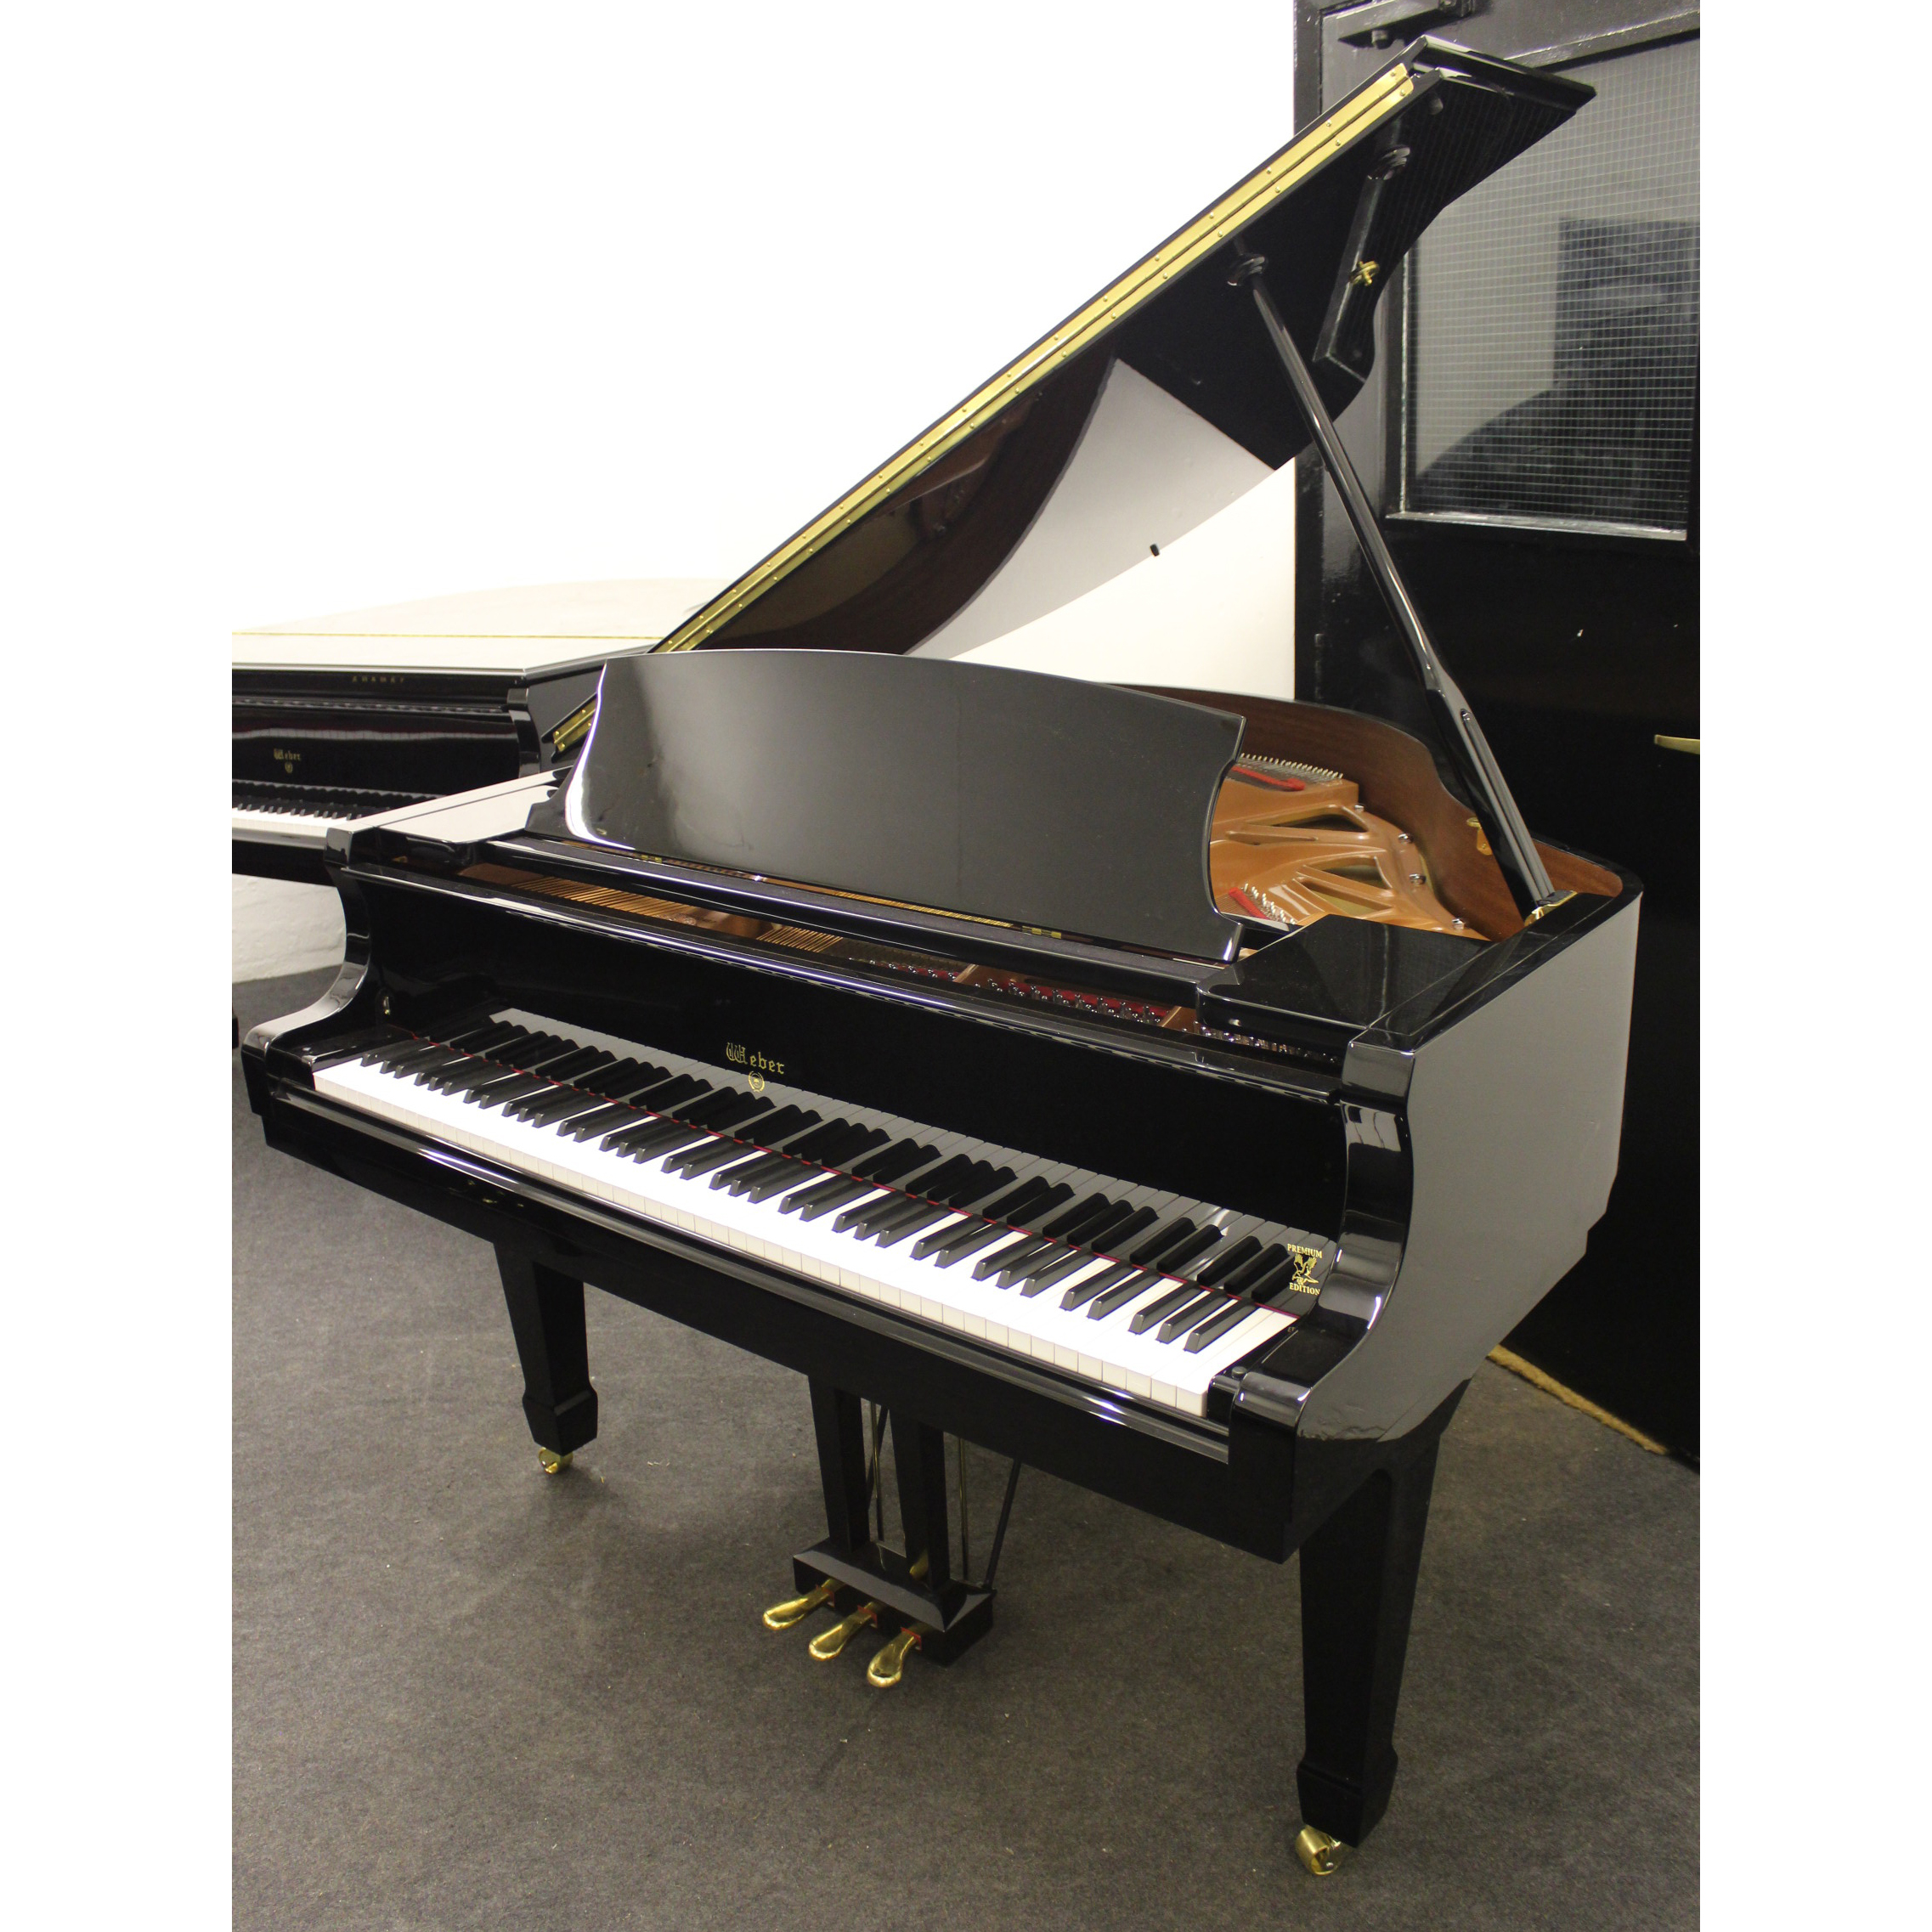GrandPiano: (265, 433, 1675, 1523)
